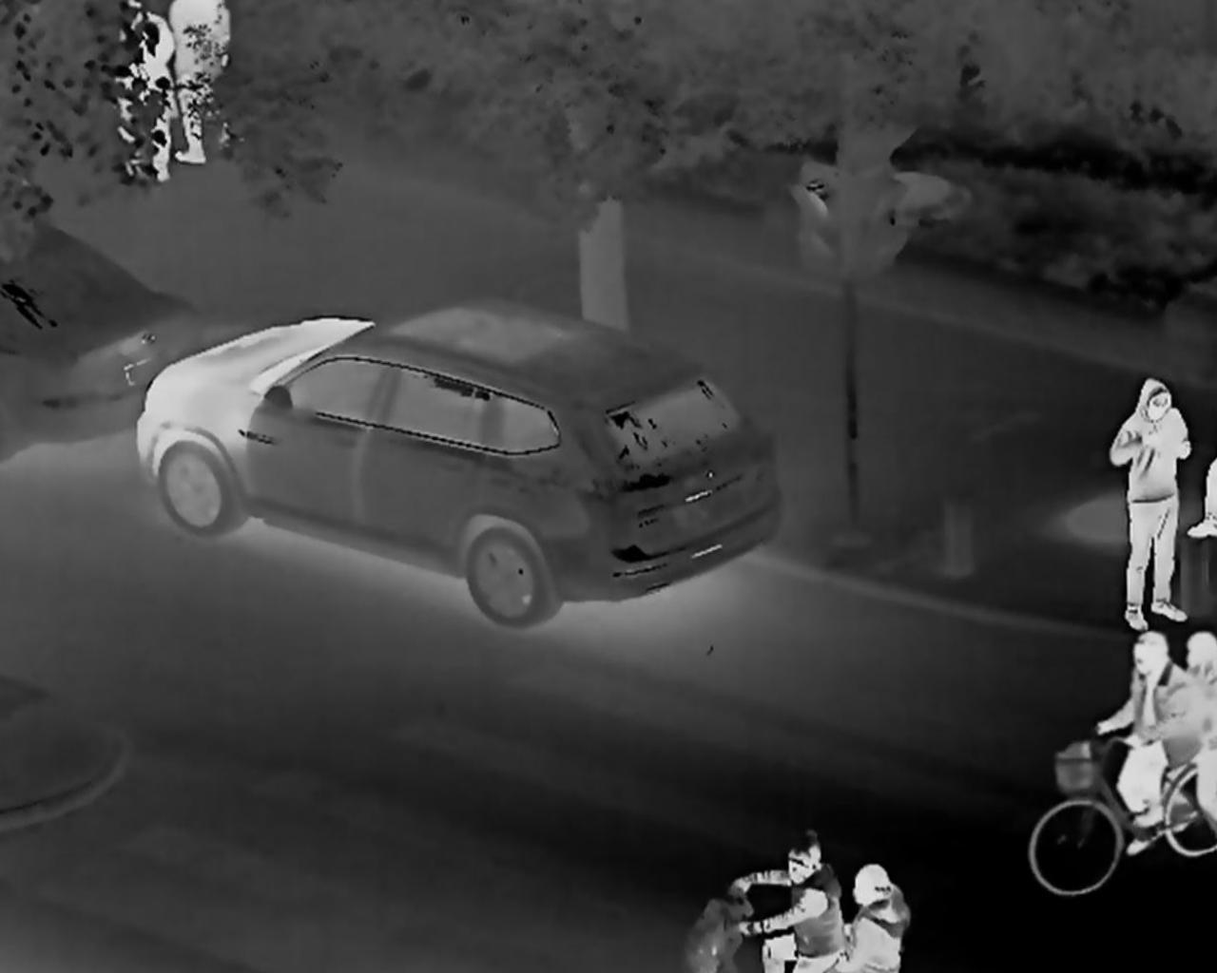person: (1091, 633, 1191, 853), (1109, 374, 1194, 626), (725, 823, 845, 973), (109, 3, 180, 189), (837, 860, 914, 973), (1178, 630, 1217, 830)
